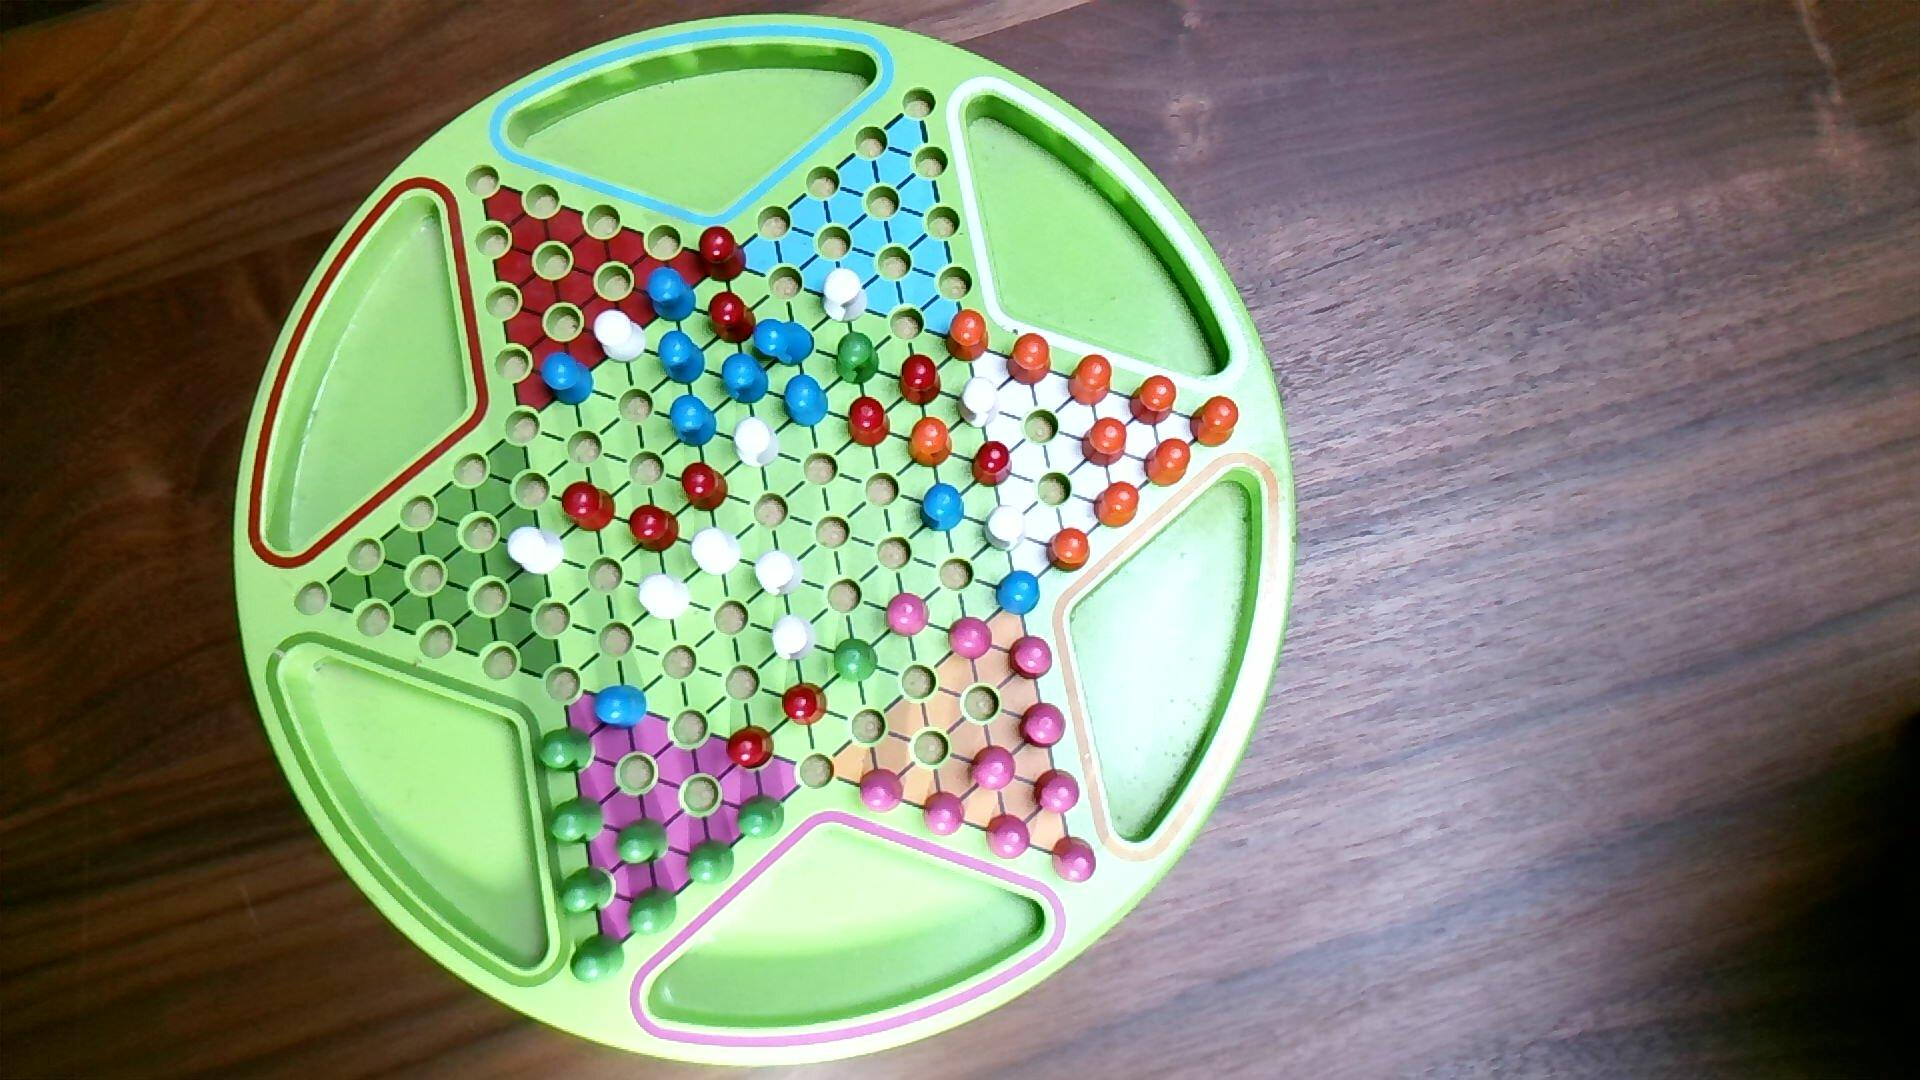B: (752, 316, 818, 369), (538, 349, 596, 407), (645, 265, 699, 324), (655, 328, 707, 388), (719, 351, 771, 407), (669, 393, 719, 450), (781, 372, 829, 430), (589, 683, 649, 731), (916, 481, 968, 535), (993, 568, 1043, 618)
G: (568, 931, 628, 986), (537, 723, 597, 775), (558, 865, 616, 916), (615, 816, 673, 868), (549, 795, 607, 847), (833, 330, 882, 388), (626, 886, 679, 938), (684, 837, 737, 887), (735, 793, 787, 843), (832, 637, 880, 686)
O: (1004, 330, 1054, 389), (1127, 373, 1179, 429), (1189, 394, 1241, 450), (942, 309, 992, 365), (1142, 436, 1193, 491), (905, 415, 955, 469), (1080, 415, 1130, 469), (1065, 352, 1114, 407), (1093, 477, 1142, 531), (1044, 525, 1095, 575)
R: (560, 479, 618, 535), (696, 224, 749, 285), (705, 289, 760, 347), (626, 502, 682, 555), (725, 723, 777, 774), (680, 462, 731, 514), (897, 353, 944, 409), (847, 396, 893, 450), (781, 680, 829, 728), (971, 438, 1015, 489)
R2: (1018, 699, 1068, 752), (884, 591, 934, 641), (968, 744, 1018, 794), (1050, 835, 1098, 886), (1033, 767, 1083, 816), (920, 790, 969, 840), (984, 812, 1033, 862), (947, 615, 996, 663), (1006, 633, 1054, 682), (857, 767, 906, 814)
W: (592, 307, 649, 365), (506, 524, 567, 578), (820, 265, 870, 327), (690, 525, 744, 579), (955, 373, 1004, 433), (732, 415, 782, 472), (638, 572, 694, 622), (754, 549, 804, 600), (981, 502, 1030, 555), (770, 613, 819, 665)
